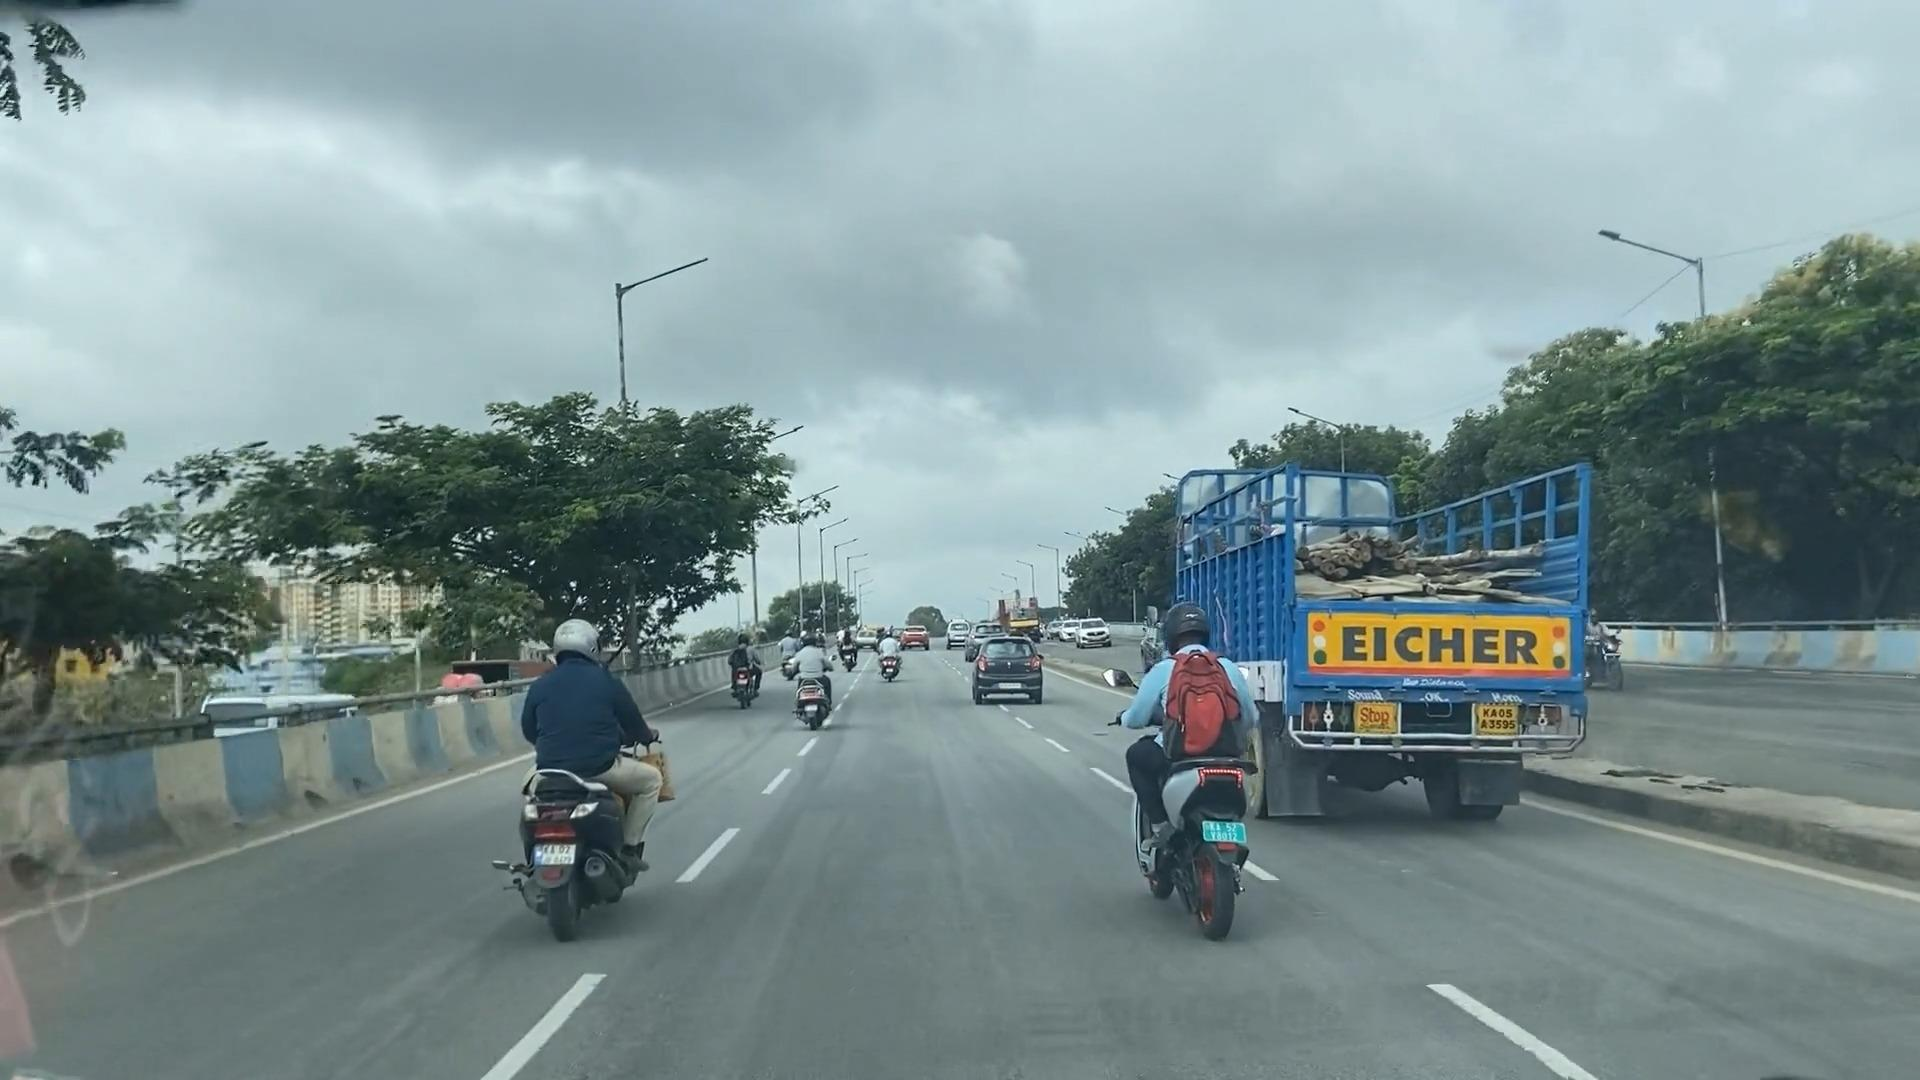LMV: (537, 620, 658, 918), (1139, 624, 1250, 927), (973, 637, 1035, 708), (789, 644, 840, 721)
